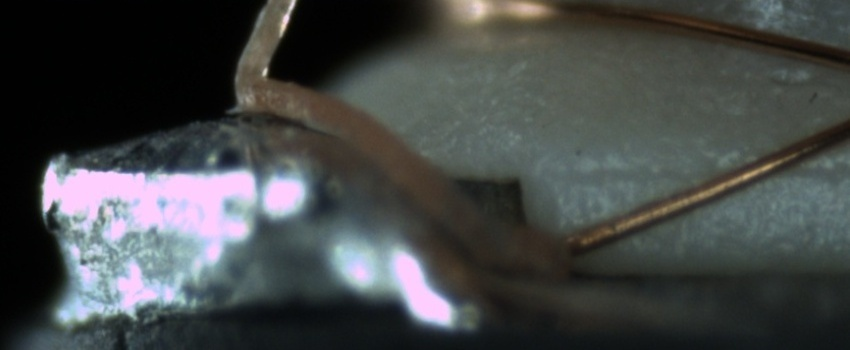DL: (561, 142, 845, 203)
